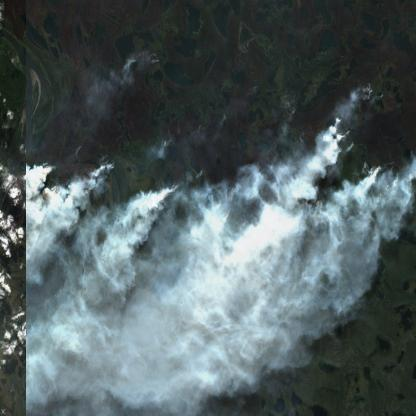fire: (0, 111, 416, 256)
